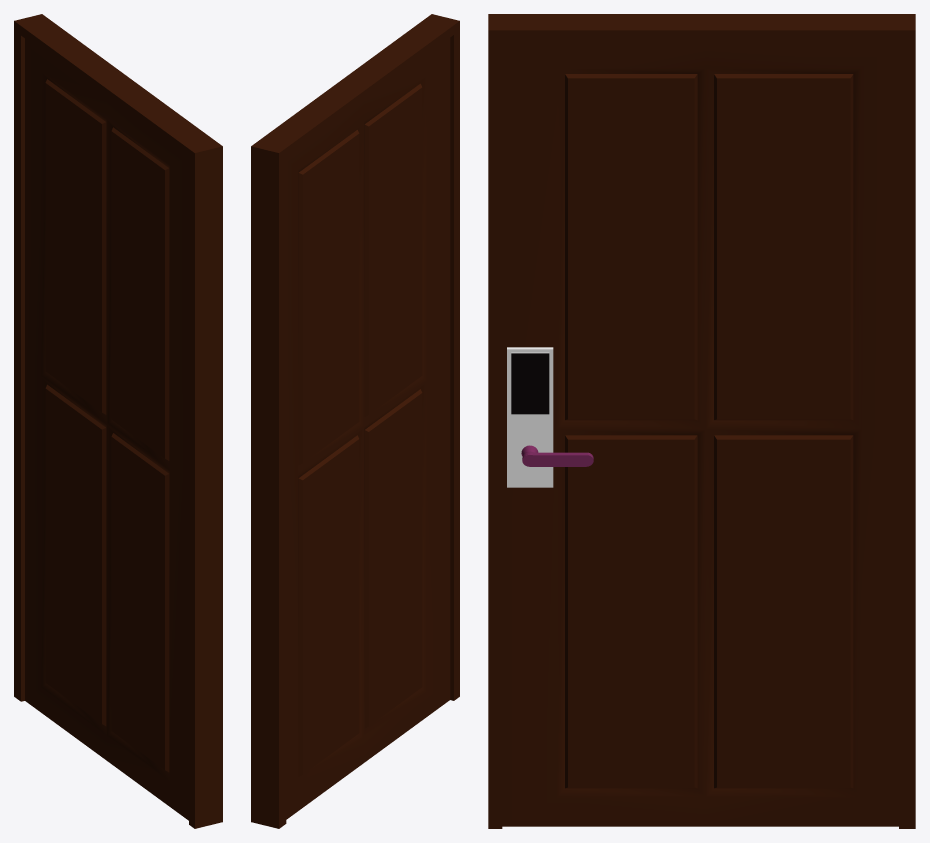
File: door digi.fbx
3 views of the same model, side by side, from view 1: azimuth 30°, elevation 25°; view 2: azimuth 150°, elevation 25°; view 3: azimuth 270°, elevation 25° (orthographic). The views are drawn at different scales.
Parts seen in each view (by area): view 1: pCube2, pCube25; view 2: pCube2, pCube25; view 3: pCube2, pCube25, pCube24 (×2), pCylinder4.
Part boxes in pixels (left/top/right/bottom): pCube2: left=25, top=38, right=188, bottom=820; pCube25: left=14, top=14, right=222, bottom=828; pCube2: left=286, top=38, right=450, bottom=819; pCube25: left=251, top=14, right=459, bottom=828; pCube2: left=502, top=41, right=898, bottom=826; pCube25: left=488, top=14, right=915, bottom=828; pCube24 (×2): left=507, top=347, right=553, bottom=487; pCylinder4: left=521, top=445, right=593, bottom=466.
Bounding box in the file's own units: 0.1358 × 2.13 × 1.03.
